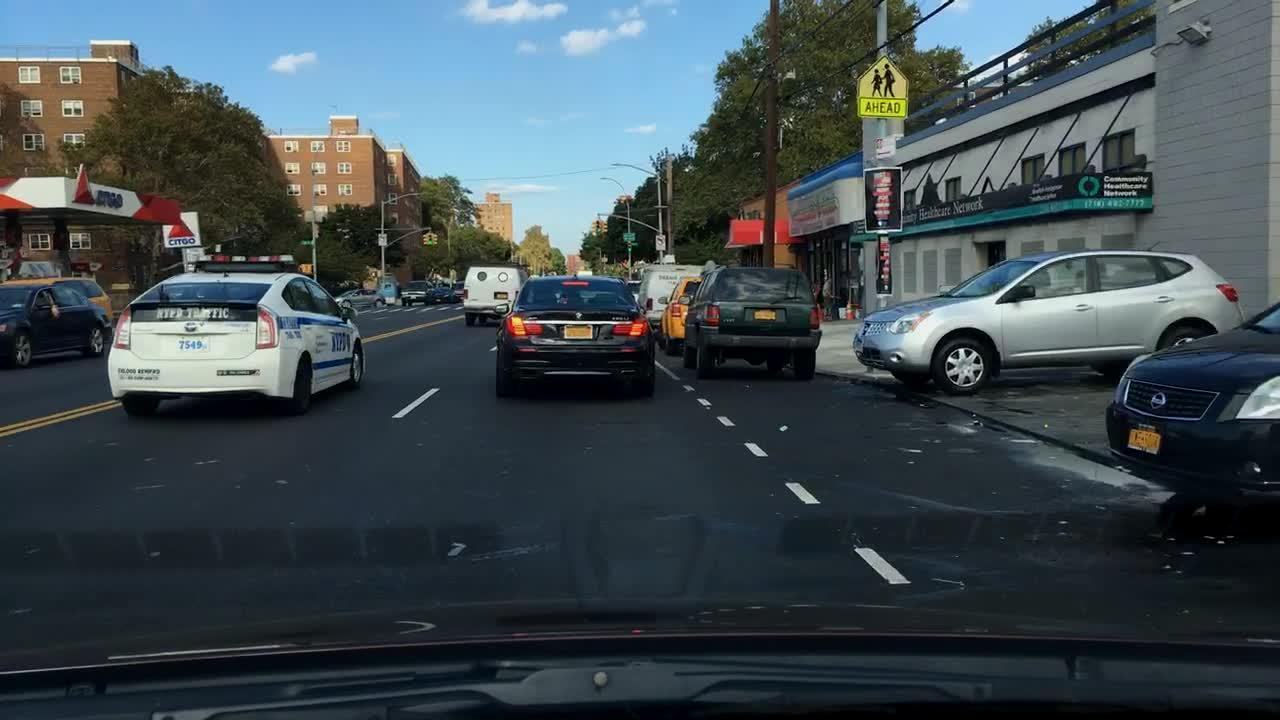Nissan: (1147, 386, 1170, 416)
Toyota: (182, 318, 201, 337)
bmw: (572, 310, 585, 321)
